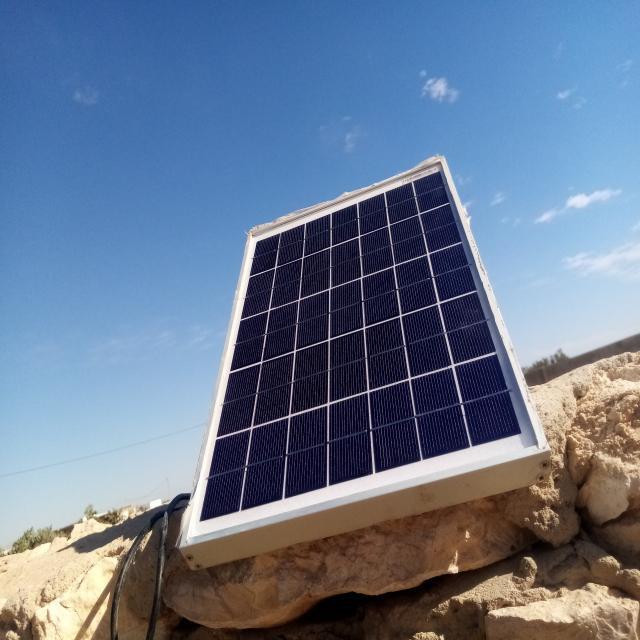no faulty: (183, 158, 548, 544)
